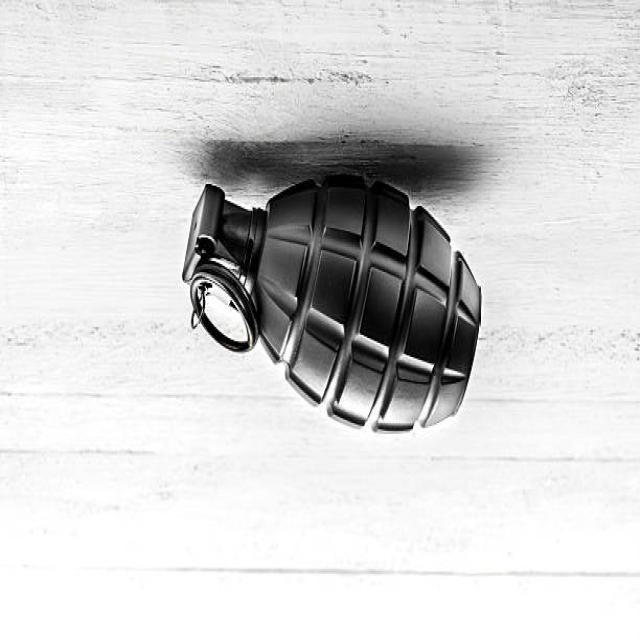grenade: (179, 167, 487, 435)
